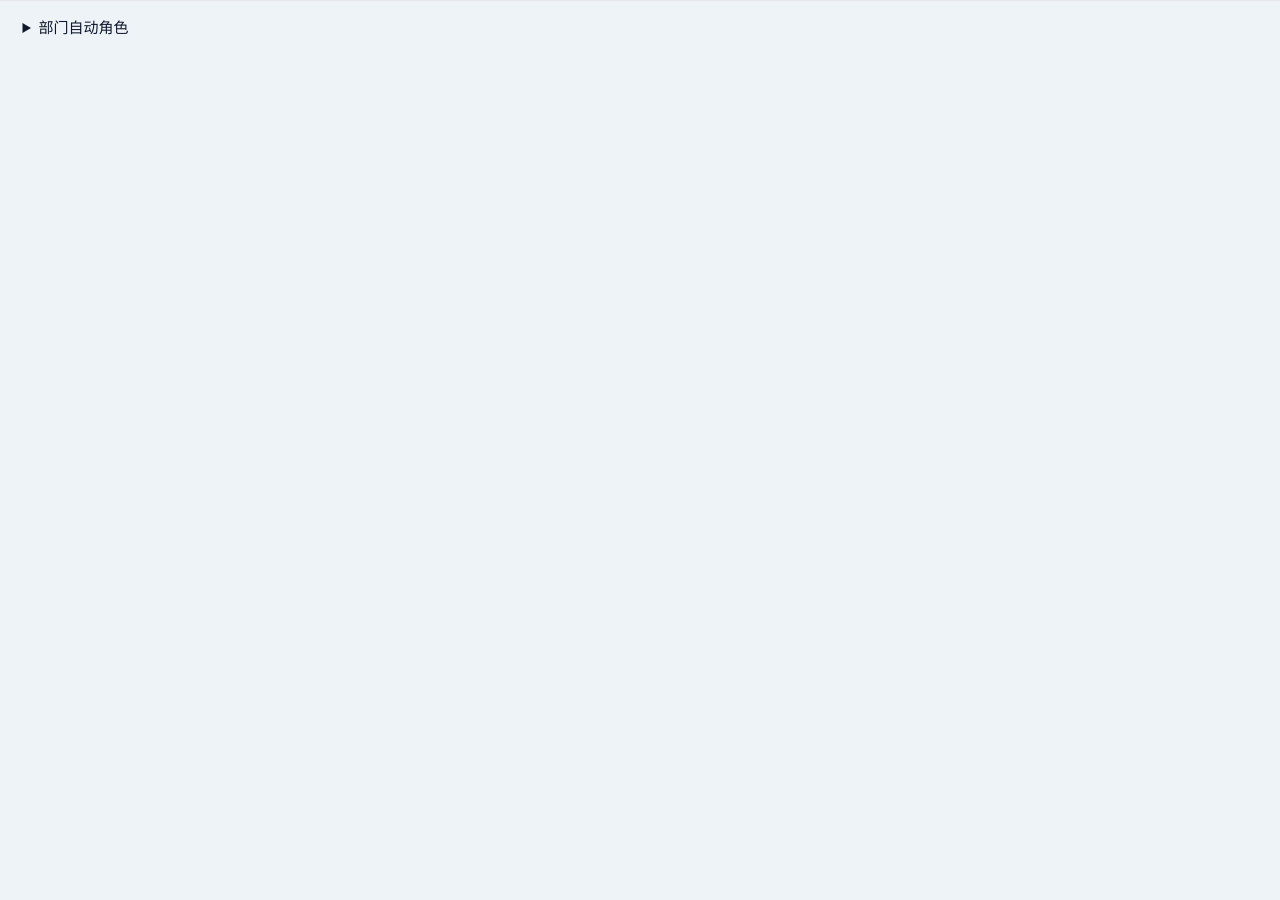
Test: retains the draft and sends no confirmation when the reviewer cancels
Click the heading "部门自动角色": coordinates (83, 28) [38,19,128,36]
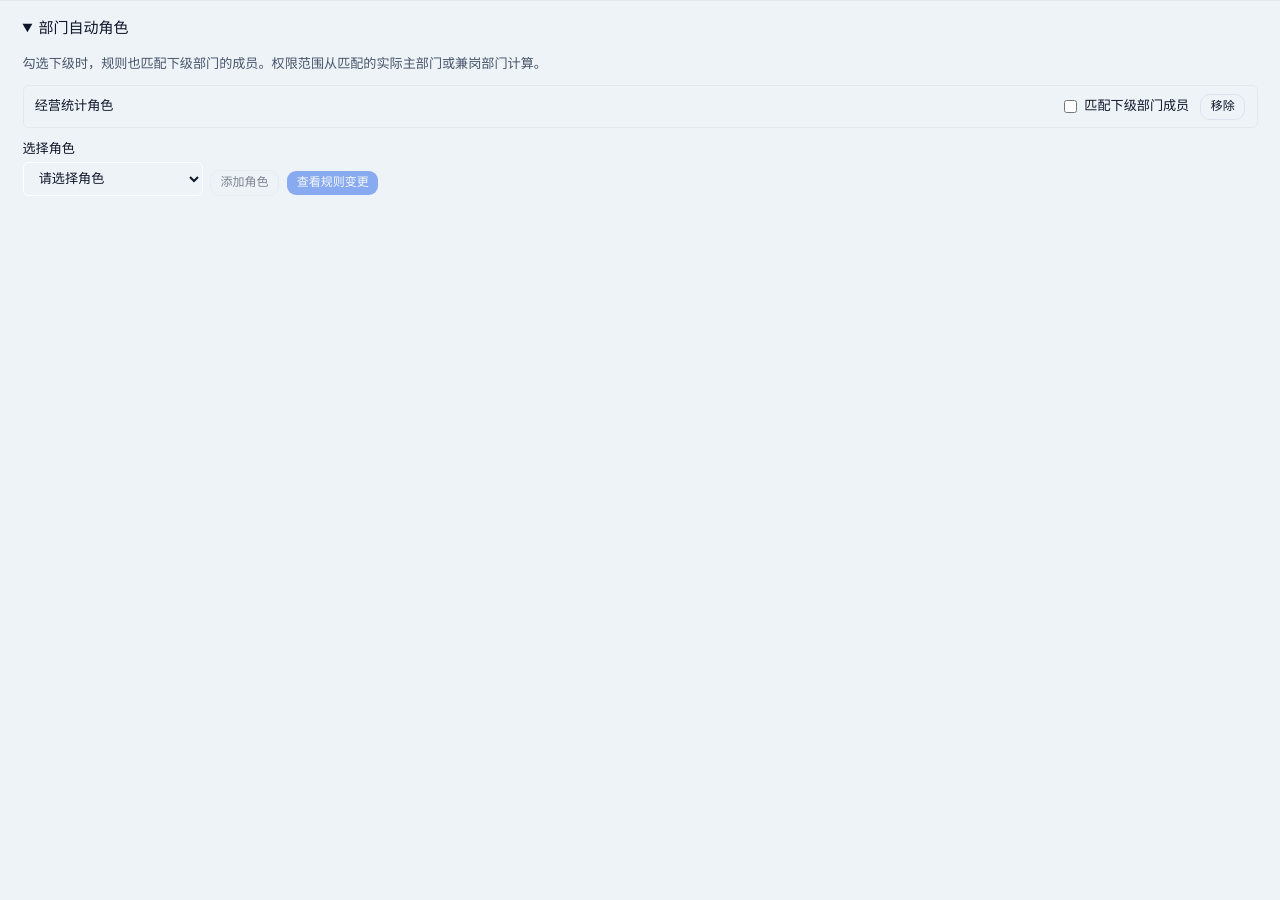
Select "收寄台账角色" in the dropdown labelled "选择角色": coordinates (112, 179) [22,162,202,196]
Click the button "添加角色": coordinates (244, 183) [210,170,279,196]
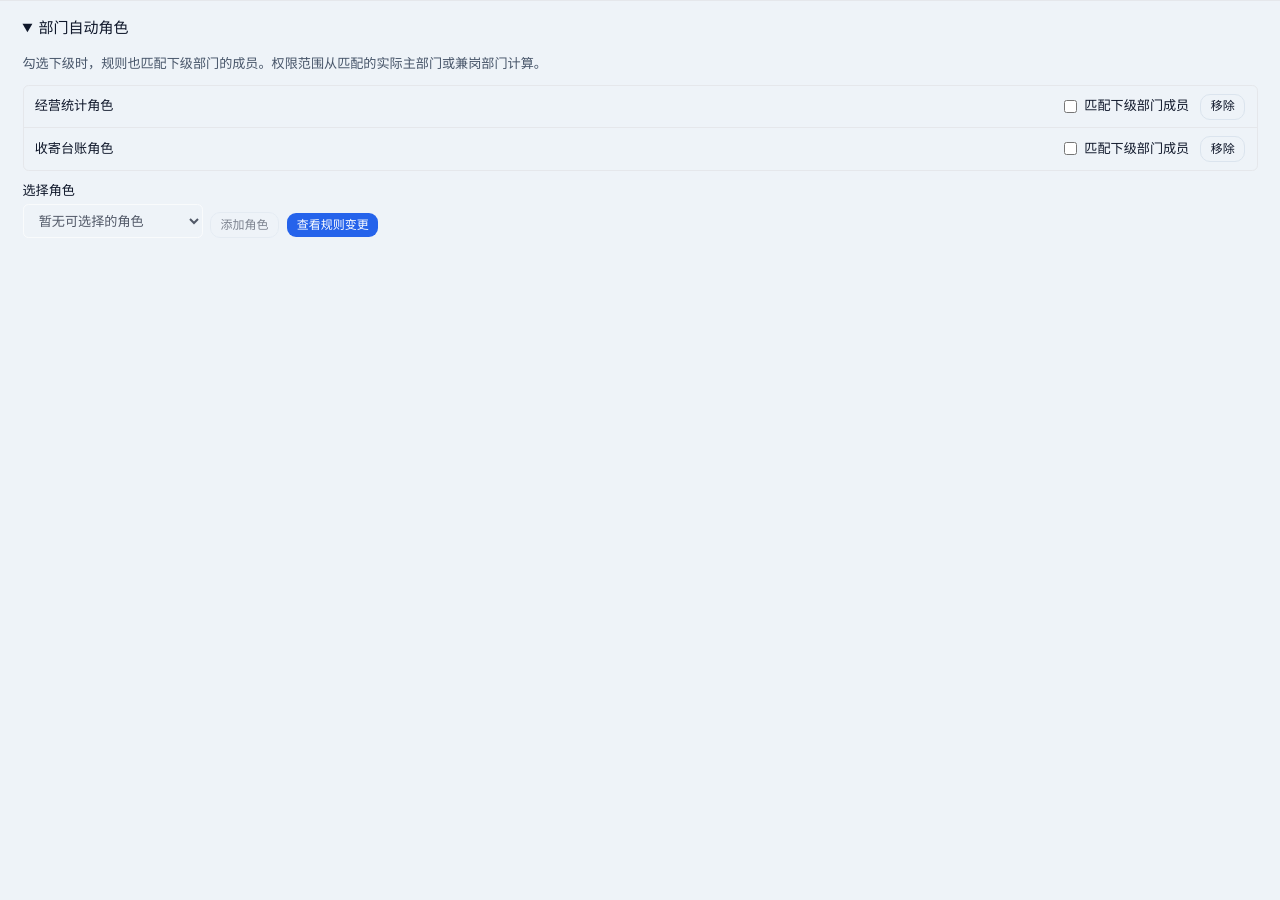
Click the checkbox named "收寄台账角色 匹配下级部门成员": coordinates (1070, 149) [1064,142,1077,155]
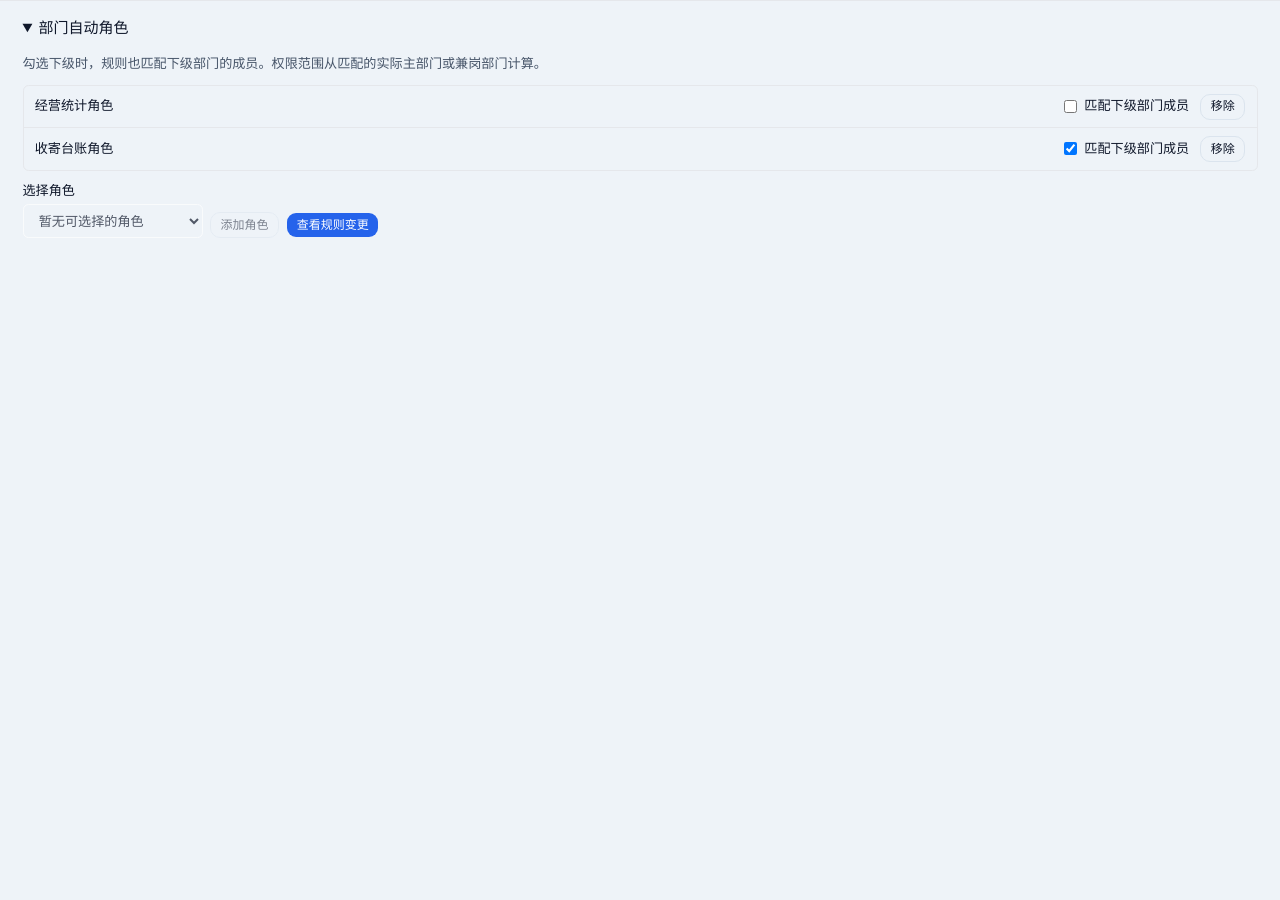
Click the button "查看规则变更": coordinates (333, 225) [286,212,379,238]
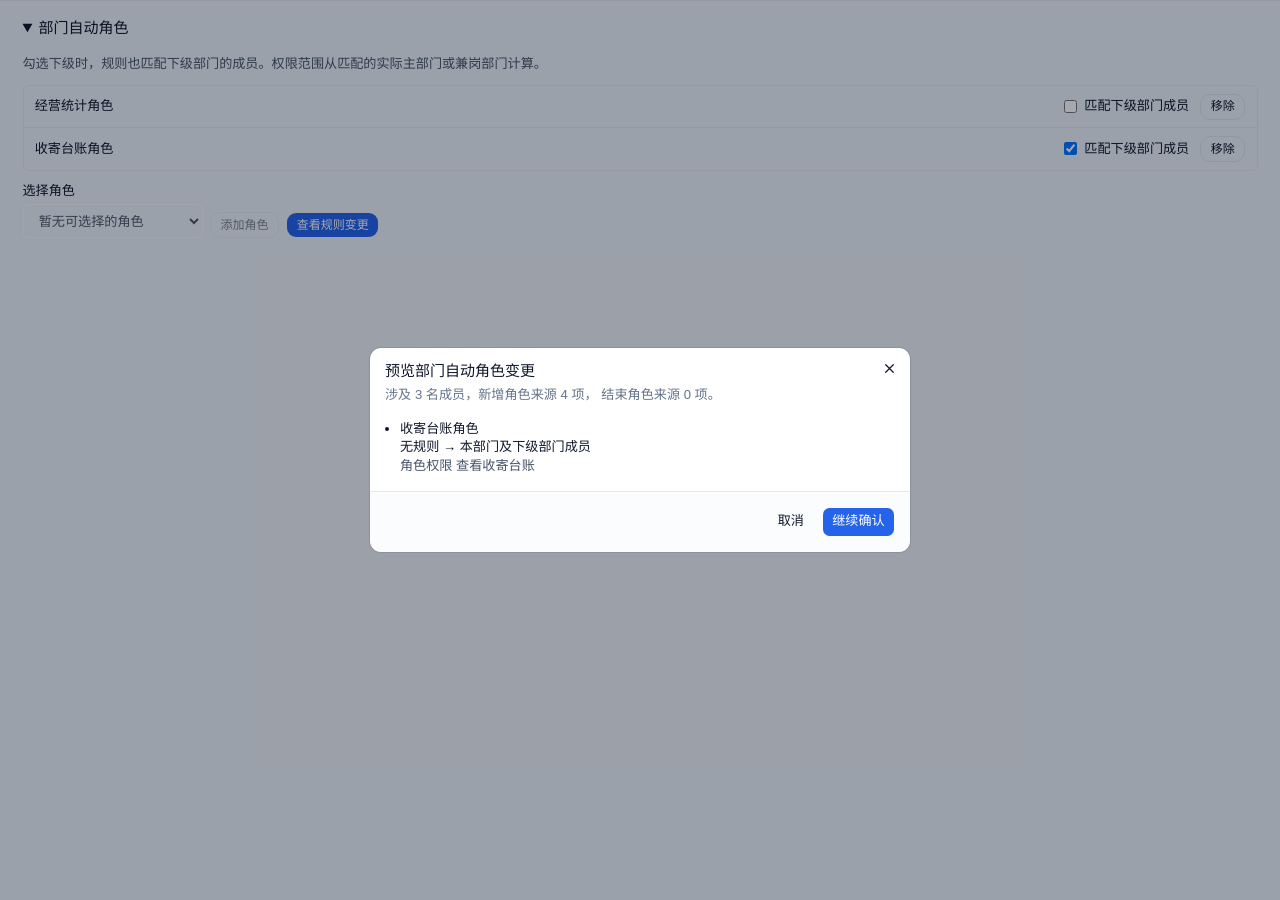
Click the button "继续确认": coordinates (858, 522) [822,507,895,537]
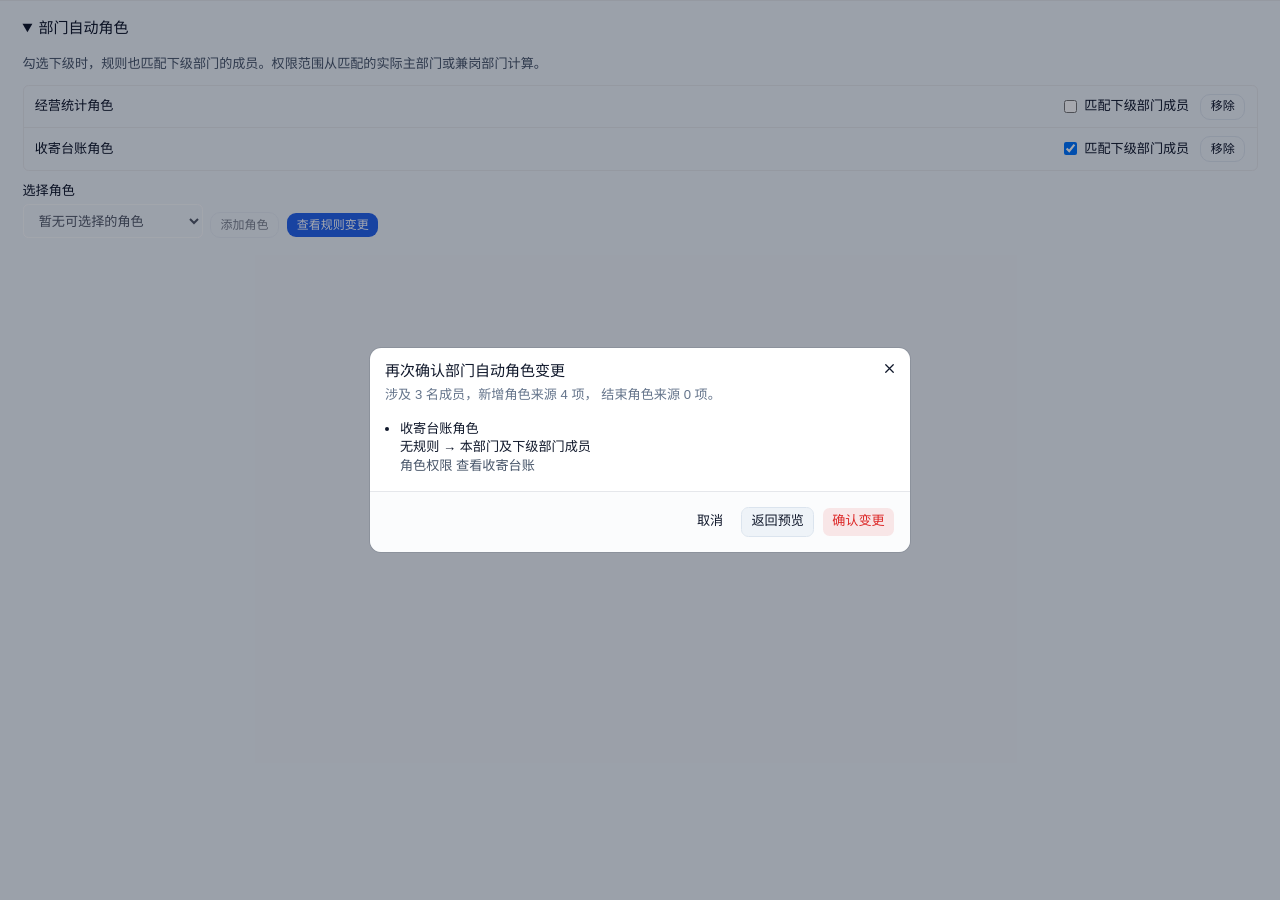
Click the button "取消": coordinates (710, 522) [687,507,734,537]
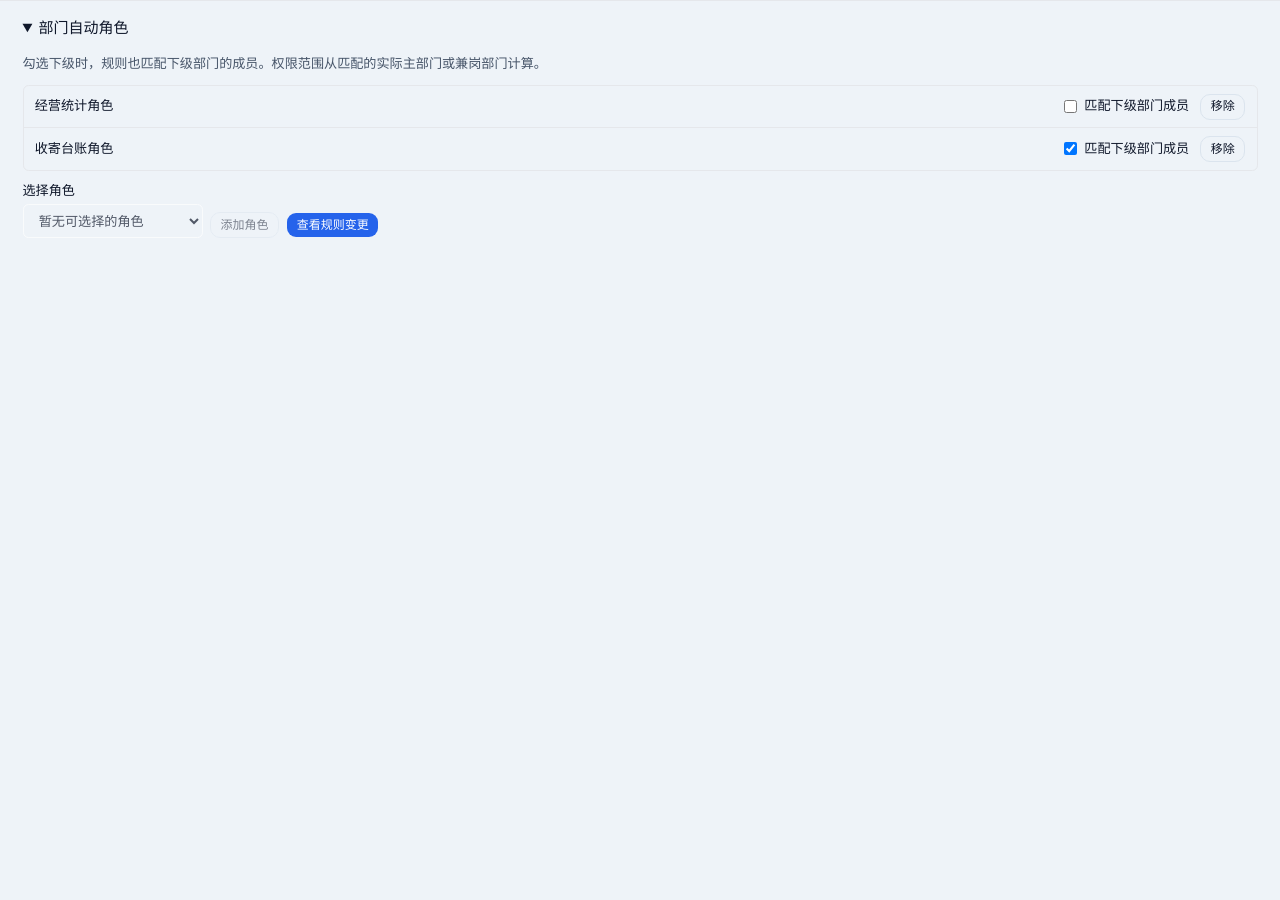
Expected: the checkbox named "收寄台账角色 匹配下级部门成员" is checked, [1064,142,1077,155]
Expected: the dialog is gone
